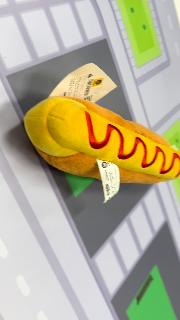hotdog: (23, 95, 179, 185)
